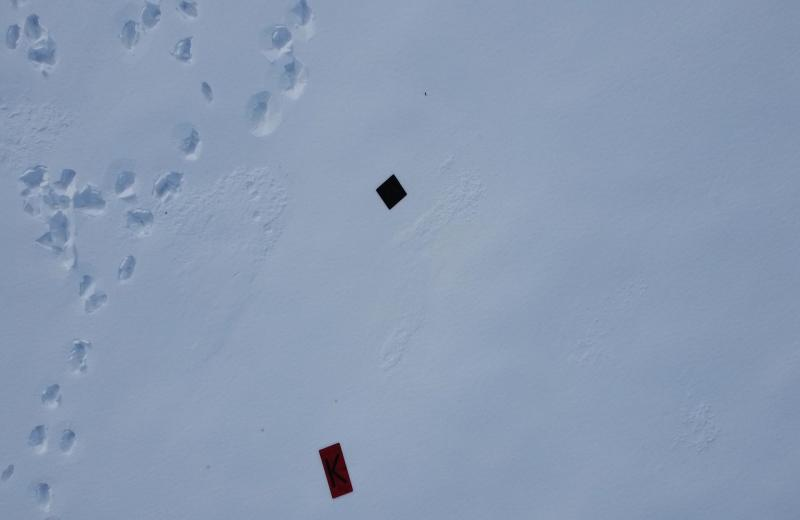Rectangle: (318, 443, 355, 500)
Square: (376, 174, 408, 213)
